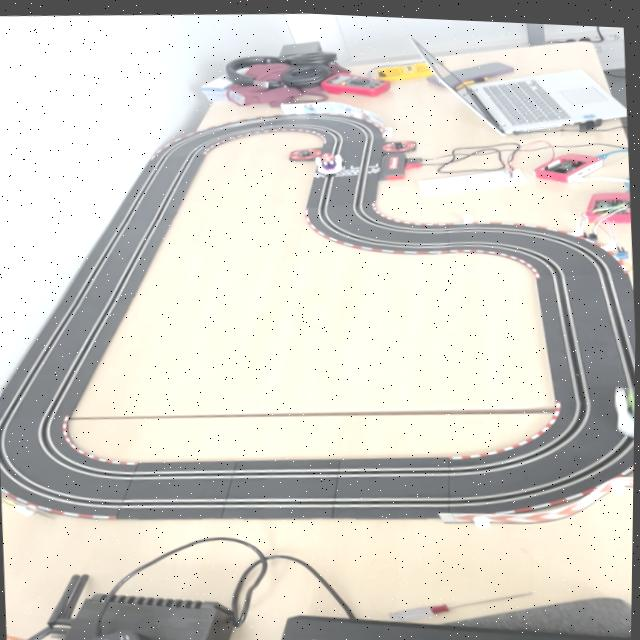mario: (312, 148, 347, 174)
yoshi: (609, 376, 636, 436)
